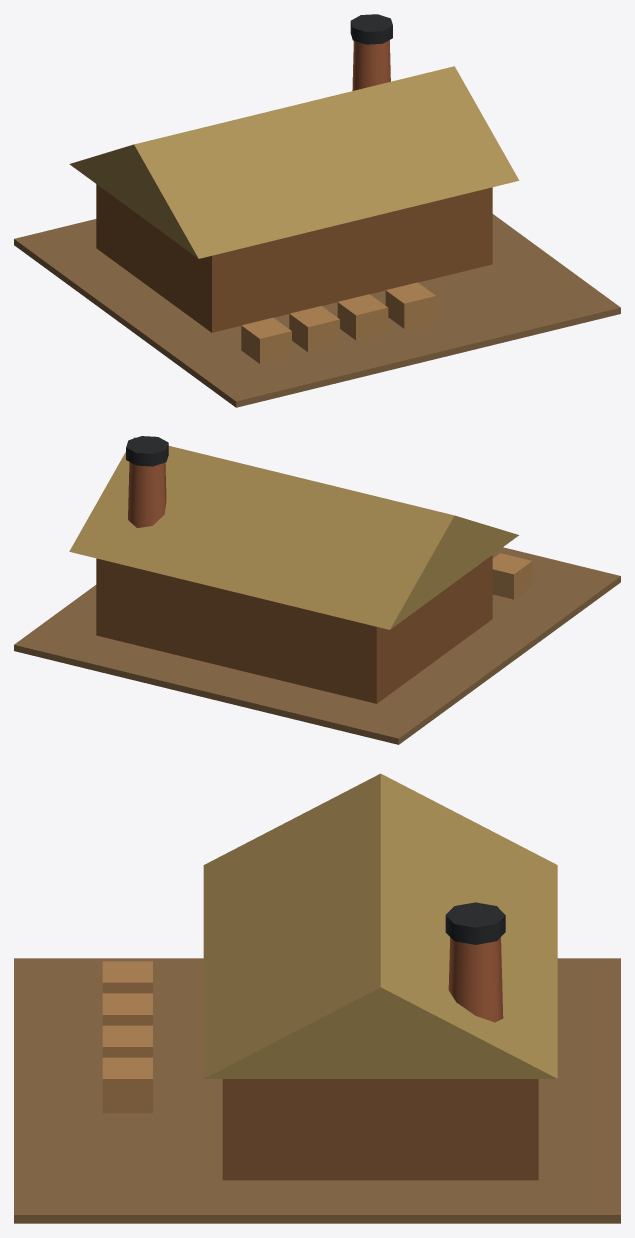
The model's file is zone_I_d2_e1.glb.
The picture shows the model from 3 angles, top to bottom: view 1: azimuth 30°, elevation 25°; view 2: azimuth 150°, elevation 25°; view 3: azimuth 270°, elevation 25°; orthographic projection. The views are drawn at different scales.
Visible parts, largest first — view 1: zone_I_d2_e1; view 2: zone_I_d2_e1; view 3: zone_I_d2_e1.
Boxes of the visible parts, bbox=[...] form: zone_I_d2_e1: bbox=[14, 14, 620, 407]; zone_I_d2_e1: bbox=[14, 436, 620, 744]; zone_I_d2_e1: bbox=[14, 773, 620, 1223].
Bounding box in the file's own units: 0.96 × 0.445 × 0.96.
